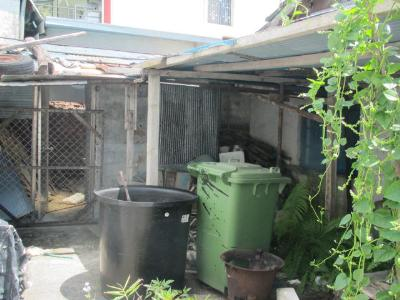bucket: (184, 159, 289, 292), (92, 185, 200, 300), (220, 247, 285, 300)
